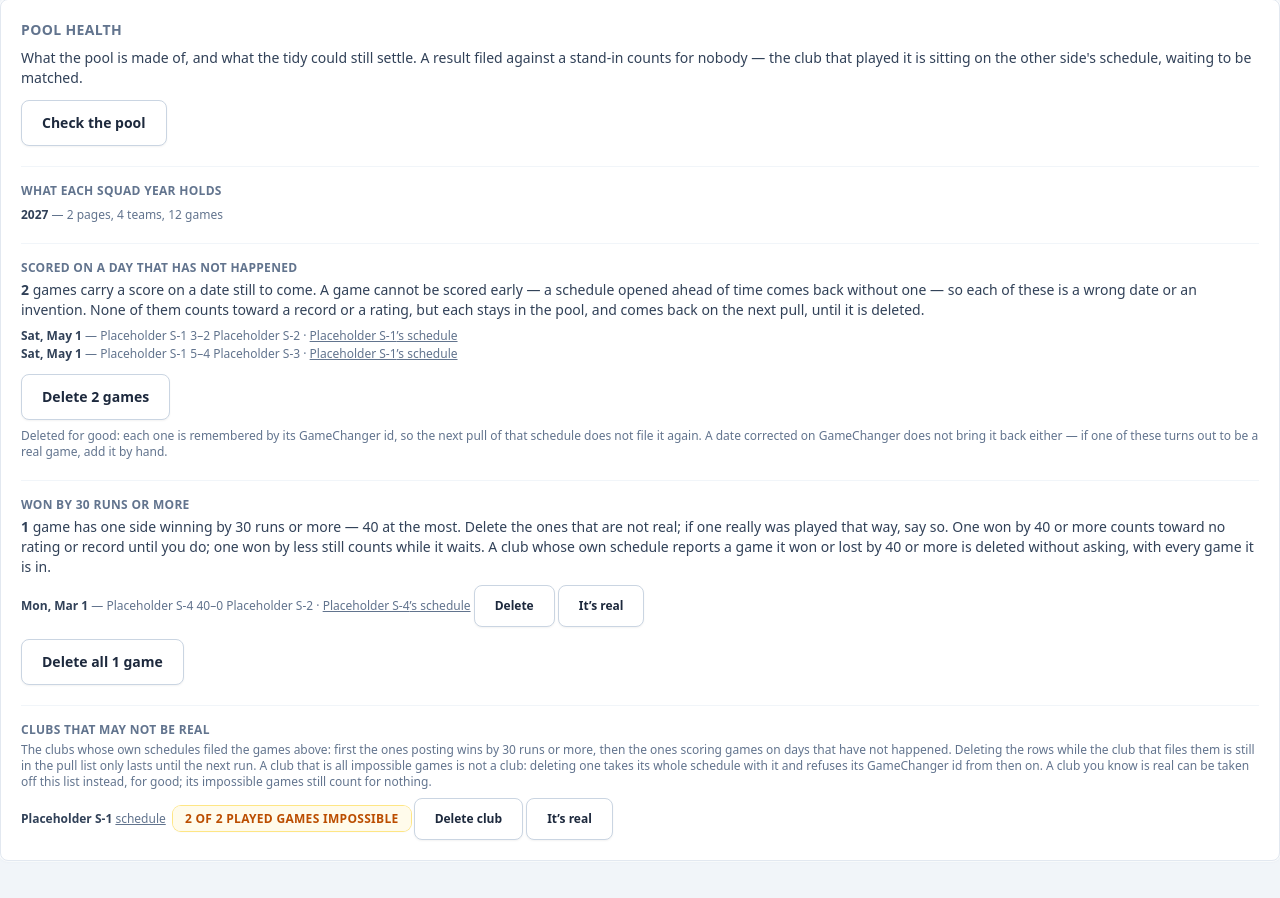
Scenario: Pool health's buttons, sent as edits › starts the lists again on a new look, drawing what the server then offers
Click the button "Check the pool" at (94, 123), box [21,100,167,146]
(page scrolled)
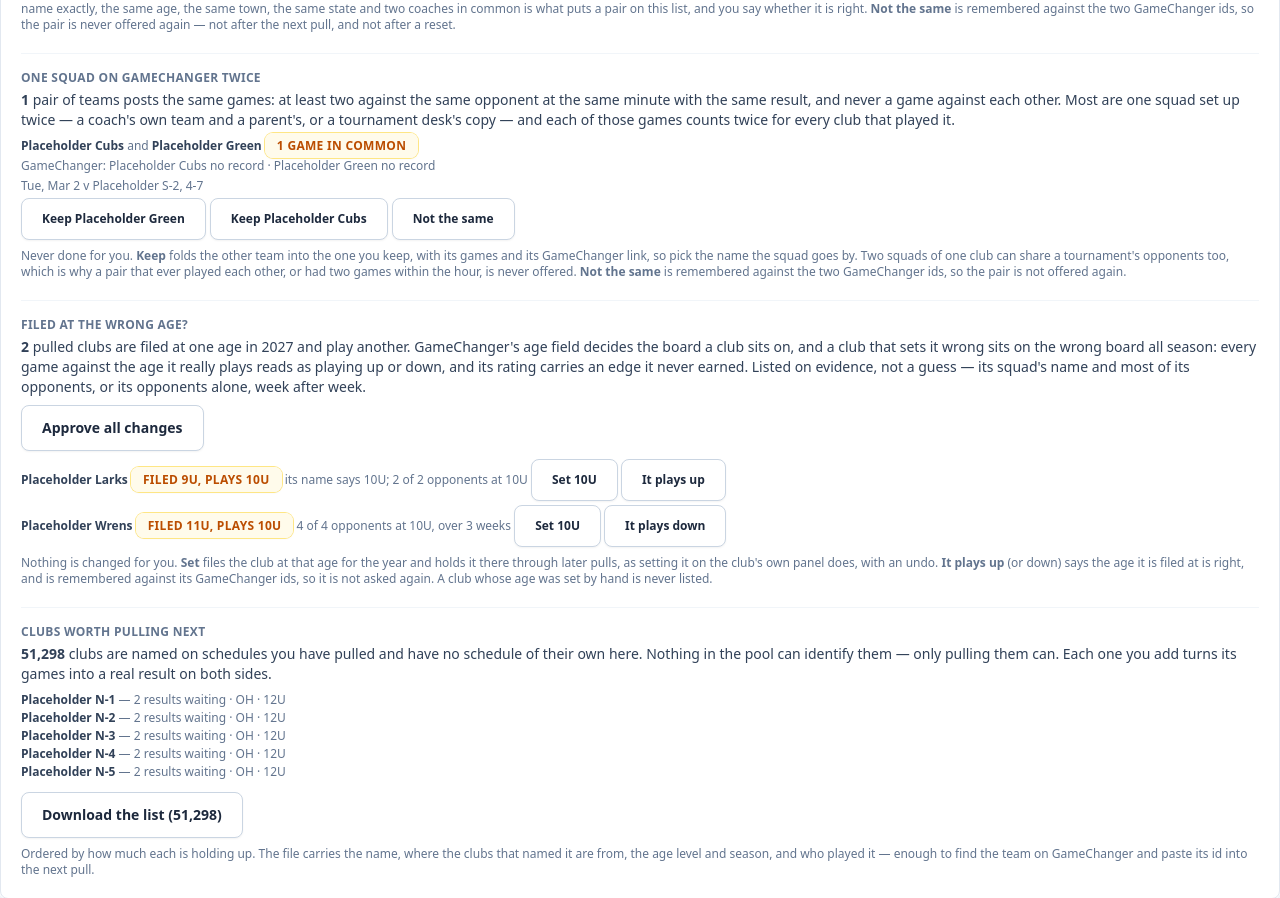
Click the button "Set 10U" in the row of "Placeholder Larks" at (574, 480), box [531,459,618,501]
(page scrolled)
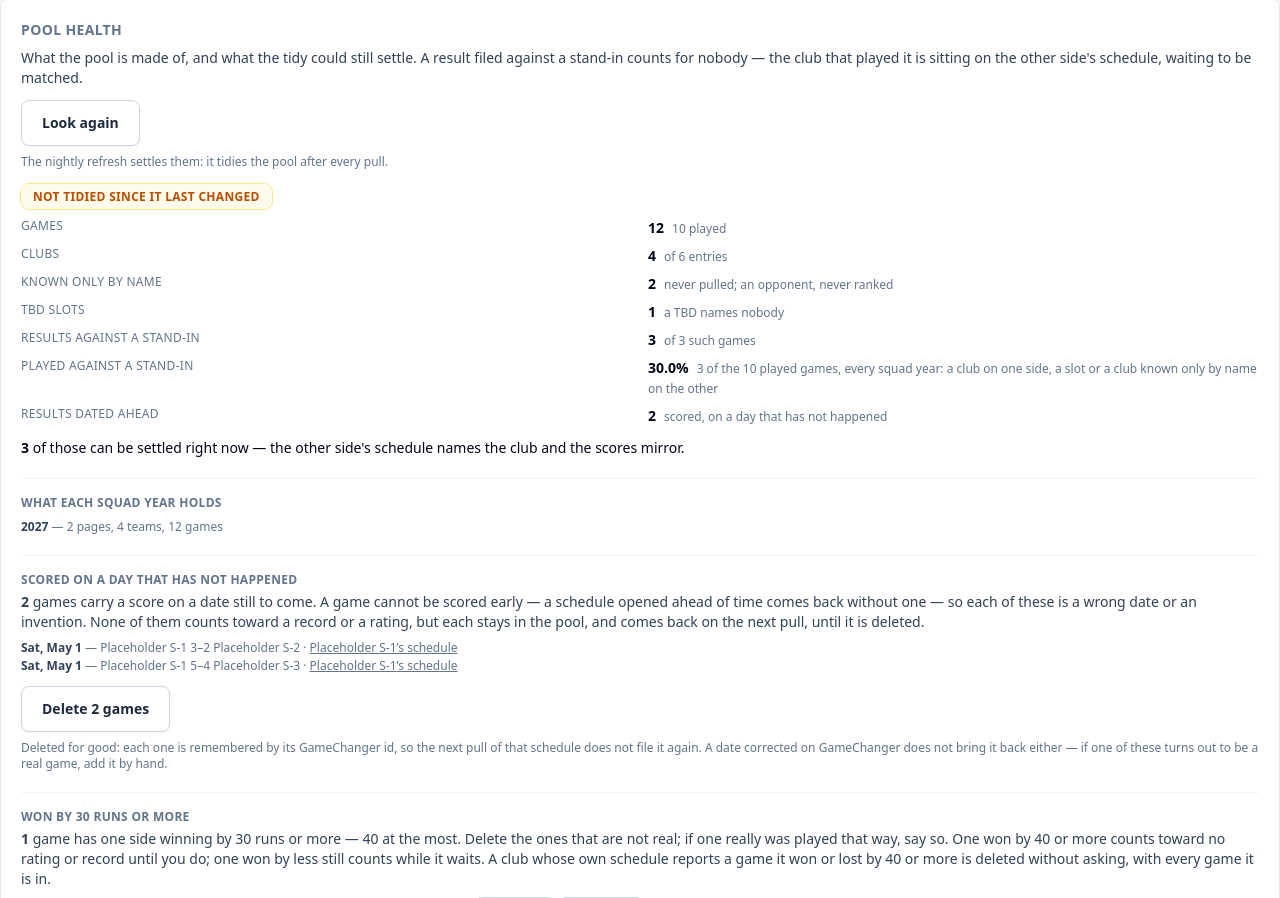
Check: the text "Placeholder Larks" is gone
// The server lists it again (its age taken back, say): the look is the server's word.
Click the button "Look again" at (80, 123), box [21,100,140,146]
(page scrolled)
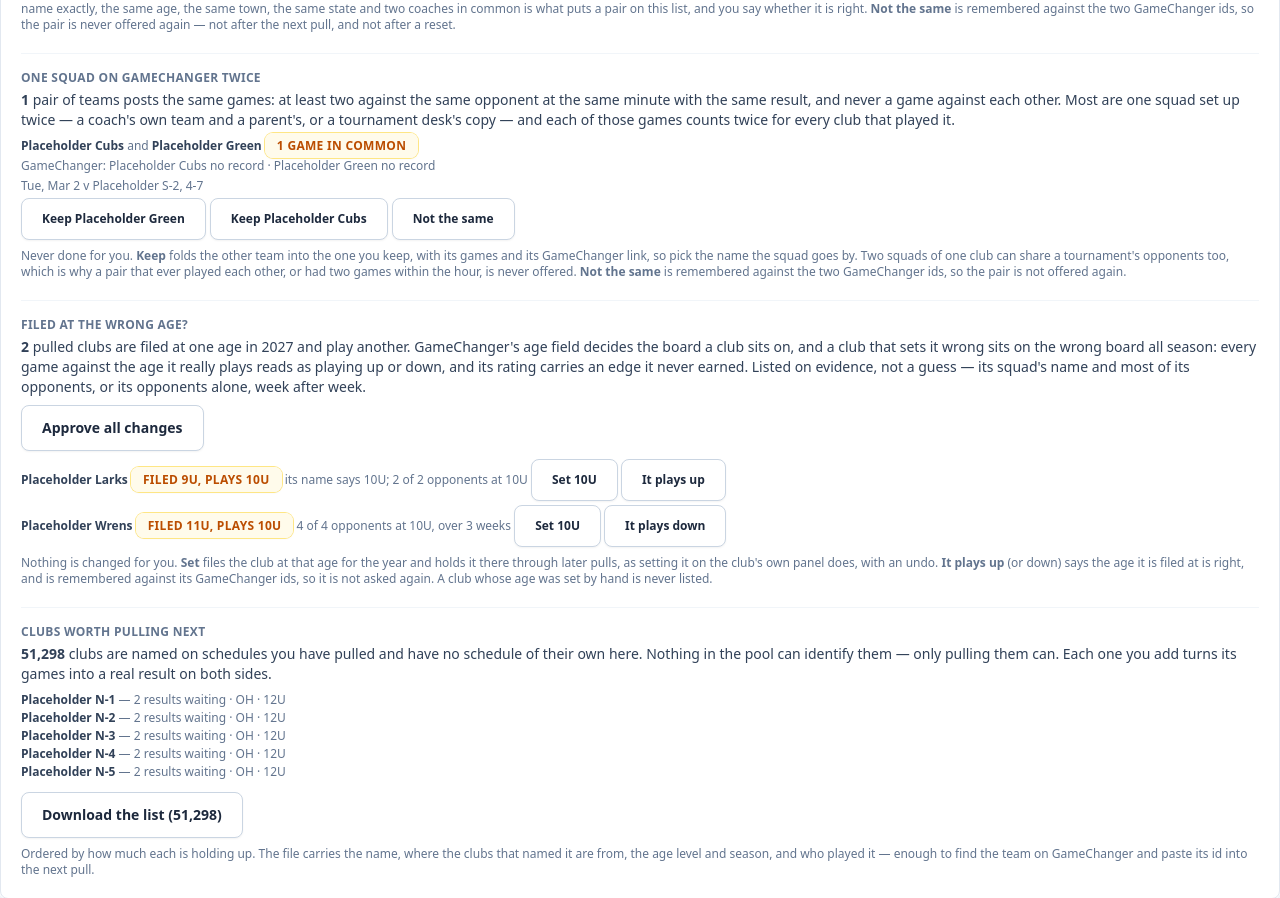
Check: the text "Placeholder Larks" is shown, box [21,471,128,488]
